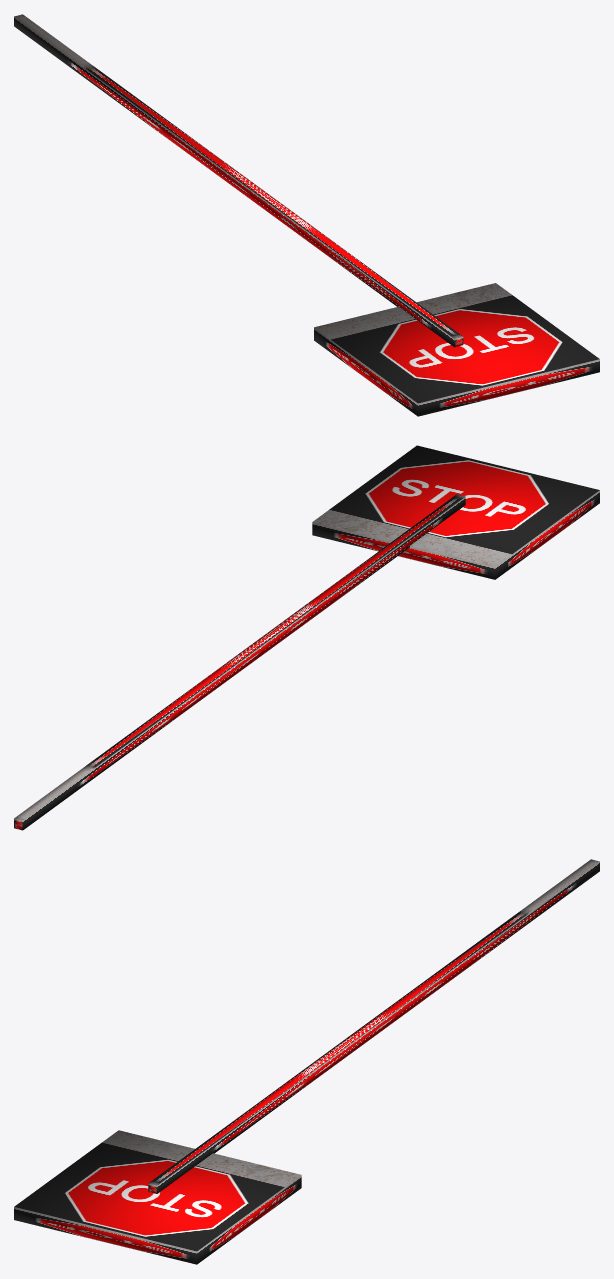
The model's file is aws_StopSign_01_collision.obj.
The picture shows the model from 3 angles, top to bottom: view 1: azimuth 30°, elevation 25°; view 2: azimuth 150°, elevation 25°; view 3: azimuth 330°, elevation 25°; orthographic projection.
Size of the model in its own units: 40.91 by 4.64 by 190.
